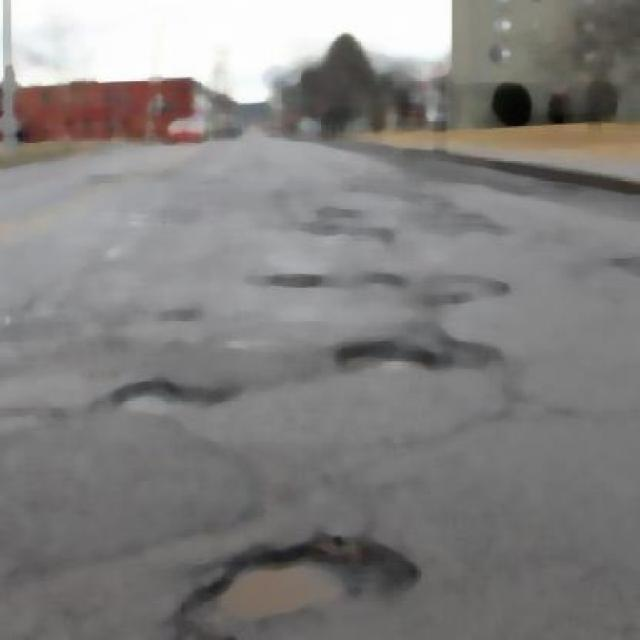Pothole: (177, 533, 468, 636), (317, 320, 528, 398), (114, 360, 240, 428)
